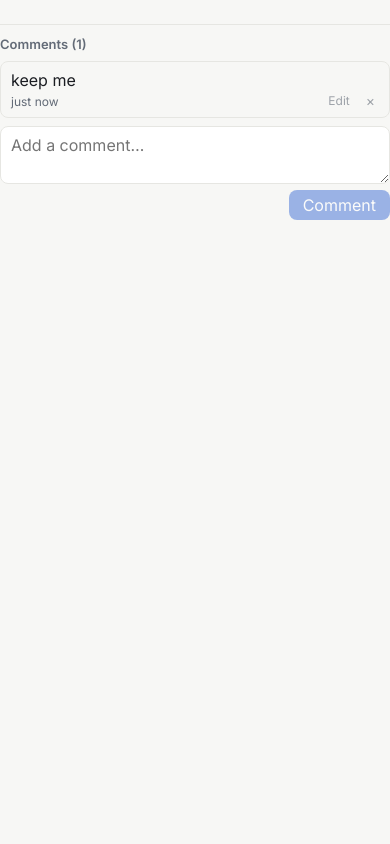
Comments › Escape cancels an edit without saving
Click the button with aria-label "Edit comment" at (339, 101), box [324,95,354,107]
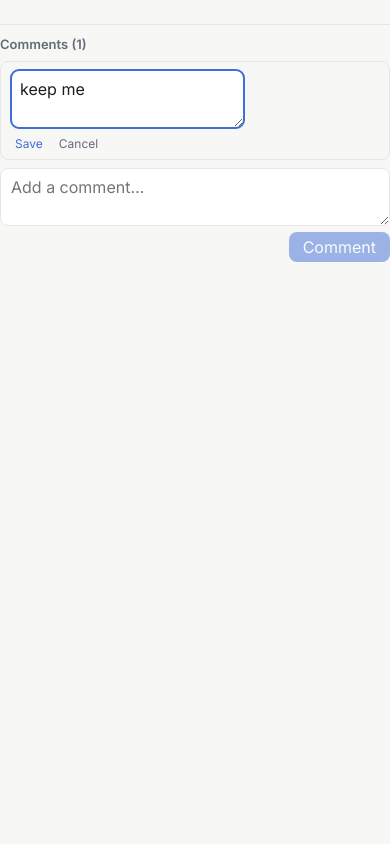
Type " changed" into the text box named "Edit comment text" at (128, 99), box [11,70,244,128]
Then press Escape
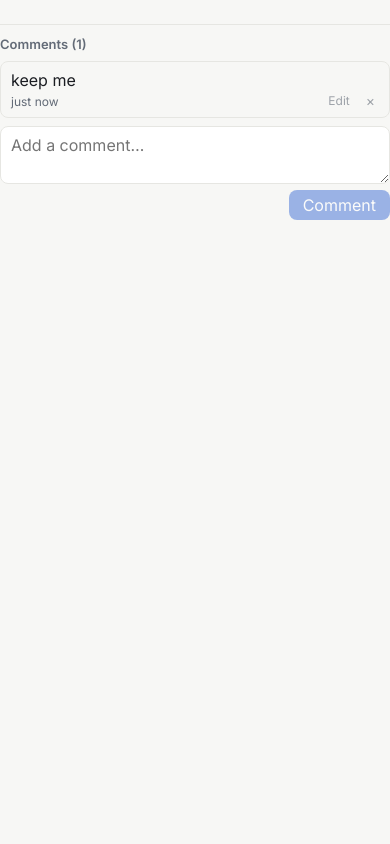
Now the text "keep me" is shown, box [11,70,76,90]
